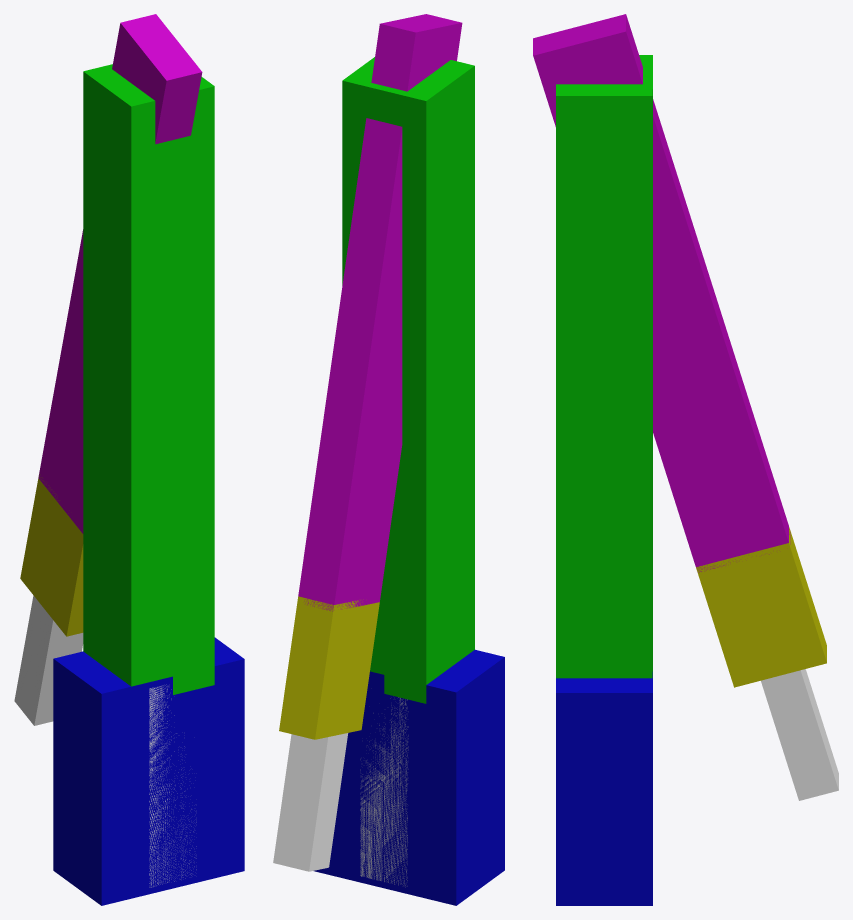
File: new_arm.dae
The picture shows the model from 3 angles, left to right: view 1: azimuth 30°, elevation 25°; view 2: azimuth 150°, elevation 25°; view 3: azimuth 270°, elevation 25°; orthographic projection.
Visible parts, largest first — view 1: link1, base_link, link2, link3, link4, bl; view 2: link1, link2, base_link, link3, link4, bl; view 3: link1, link2, base_link, link3, link4.
Part boxes in pixels (x1,y1,x2,y2): link1: (83, 64, 214, 694); base_link: (53, 637, 244, 905); link2: (38, 14, 202, 533); link3: (20, 473, 83, 636); link4: (14, 595, 83, 725); bl: (149, 684, 196, 887); link1: (342, 57, 474, 703); link2: (298, 14, 462, 611); base_link: (314, 649, 504, 905); link3: (279, 596, 379, 739); link4: (273, 733, 348, 871); bl: (360, 697, 408, 887); link1: (556, 55, 652, 678); link2: (533, 14, 790, 572); base_link: (556, 672, 652, 905); link3: (696, 527, 826, 687); link4: (761, 669, 838, 800).
Size of the model in its own units: 0.12 by 0.2212 by 0.6772.
